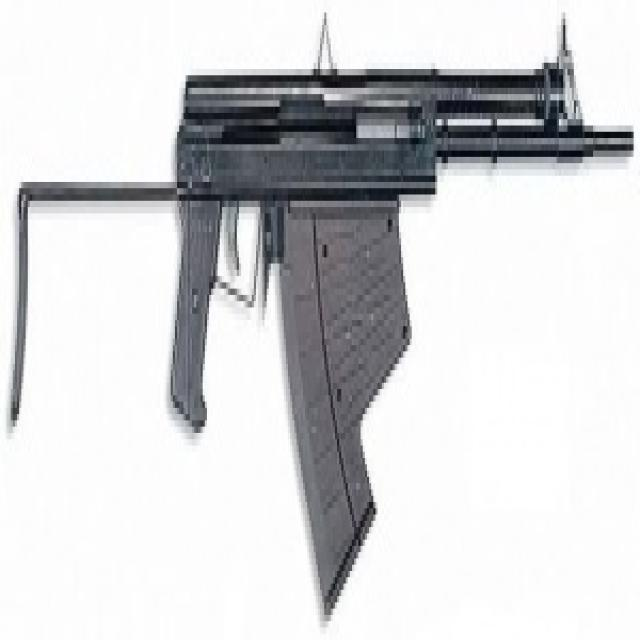rifle: (5, 7, 640, 640)
